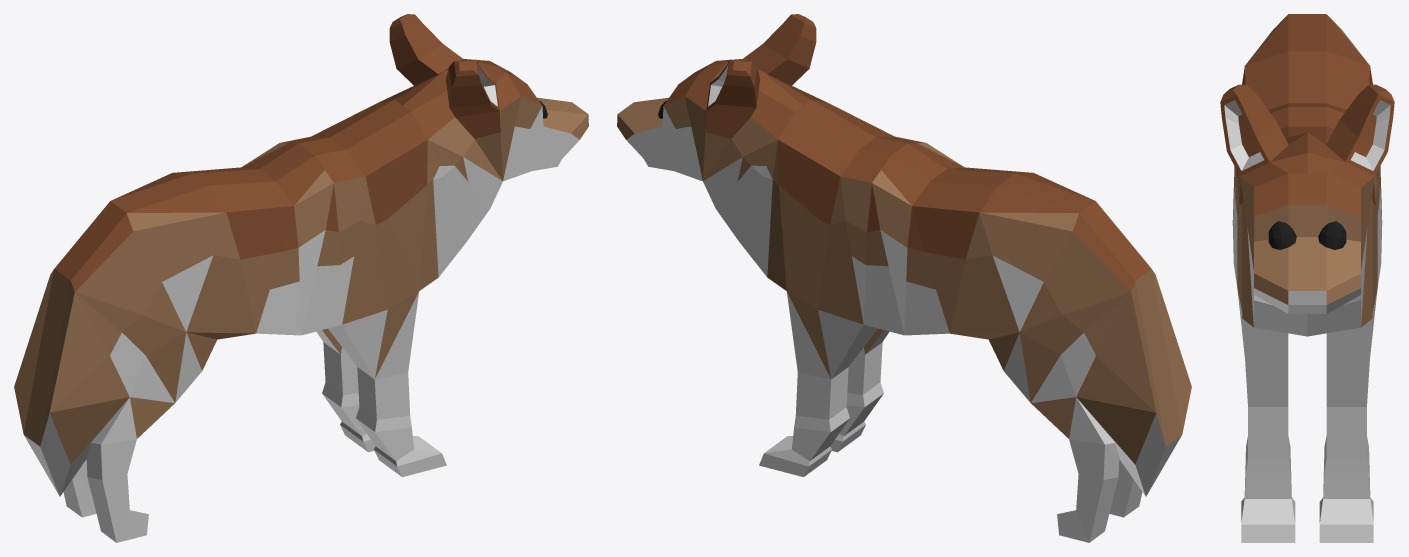
File: coyote.fbx
3 renders of one model, left to right at view 1: azimuth 30°, elevation 25°; view 2: azimuth 150°, elevation 25°; view 3: azimuth 270°, elevation 25°, orthographic. The views are drawn at different scales.
Visible parts, largest first — view 1: Coyote; view 2: Coyote; view 3: Coyote.
Part boxes in pixels (left/top/right/bottom): Coyote: left=14, top=14, right=588, bottom=542; Coyote: left=617, top=14, right=1191, bottom=542; Coyote: left=1220, top=14, right=1394, bottom=542.
Bounding box in the file's own units: 364 × 255 × 86.43.
